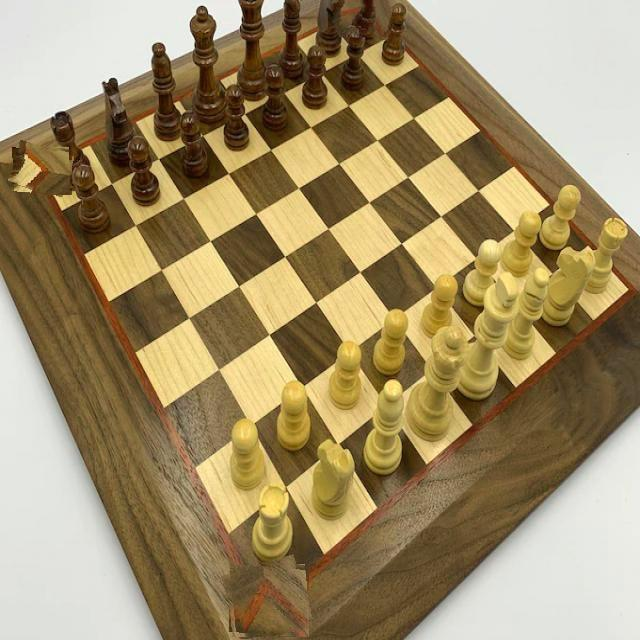chess-table-corners: (225, 559, 309, 637), (9, 144, 72, 195), (333, 0, 392, 37)
